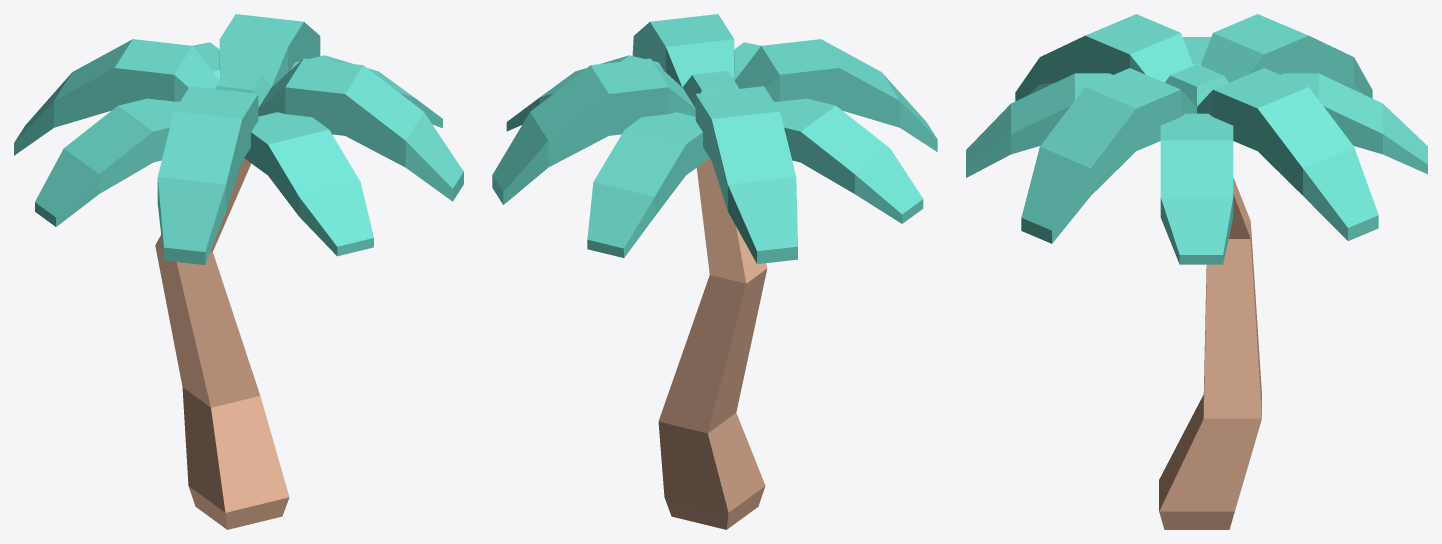
File: tree_palmDetailedShort.glb
3 renders of one model, left to right at view 1: azimuth 30°, elevation 25°; view 2: azimuth 150°, elevation 25°; view 3: azimuth 270°, elevation 25°, orthographic. The views are drawn at different scales.
Visible parts, largest first — view 1: leafs.001, tree_palmDetailedShort, leafs; view 2: leafs.001, tree_palmDetailedShort, leafs; view 3: leafs.001, leafs, tree_palmDetailedShort.
Part boxes in pixels (<box>): leafs.001: <box>14,14,463,264</box>; tree_palmDetailedShort: <box>155,158,289,529</box>; leafs: <box>35,42,442,256</box>; leafs.001: <box>492,14,937,264</box>; tree_palmDetailedShort: <box>658,158,767,529</box>; leafs: <box>506,42,923,257</box>; leafs.001: <box>1015,14,1378,243</box>; leafs: <box>966,37,1427,264</box>; tree_palmDetailedShort: <box>1159,178,1261,529</box>.
Bounding box in the file's own units: 1.03 × 1.12 × 1.03.
